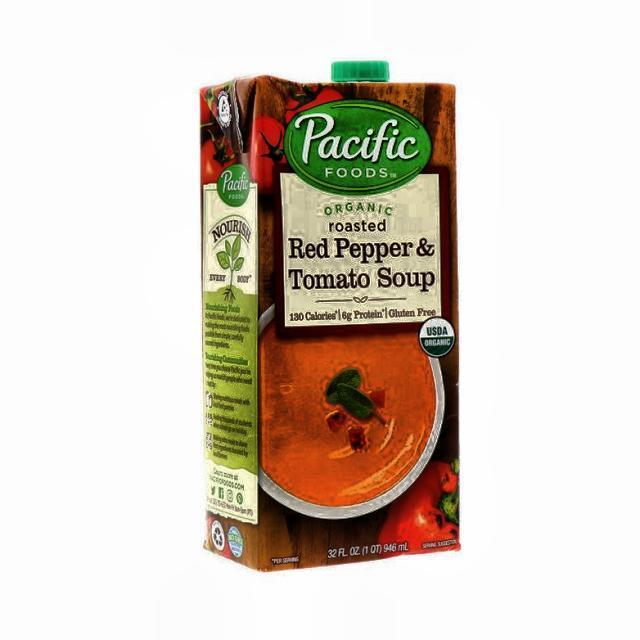cardboard: (199, 74, 460, 572)
